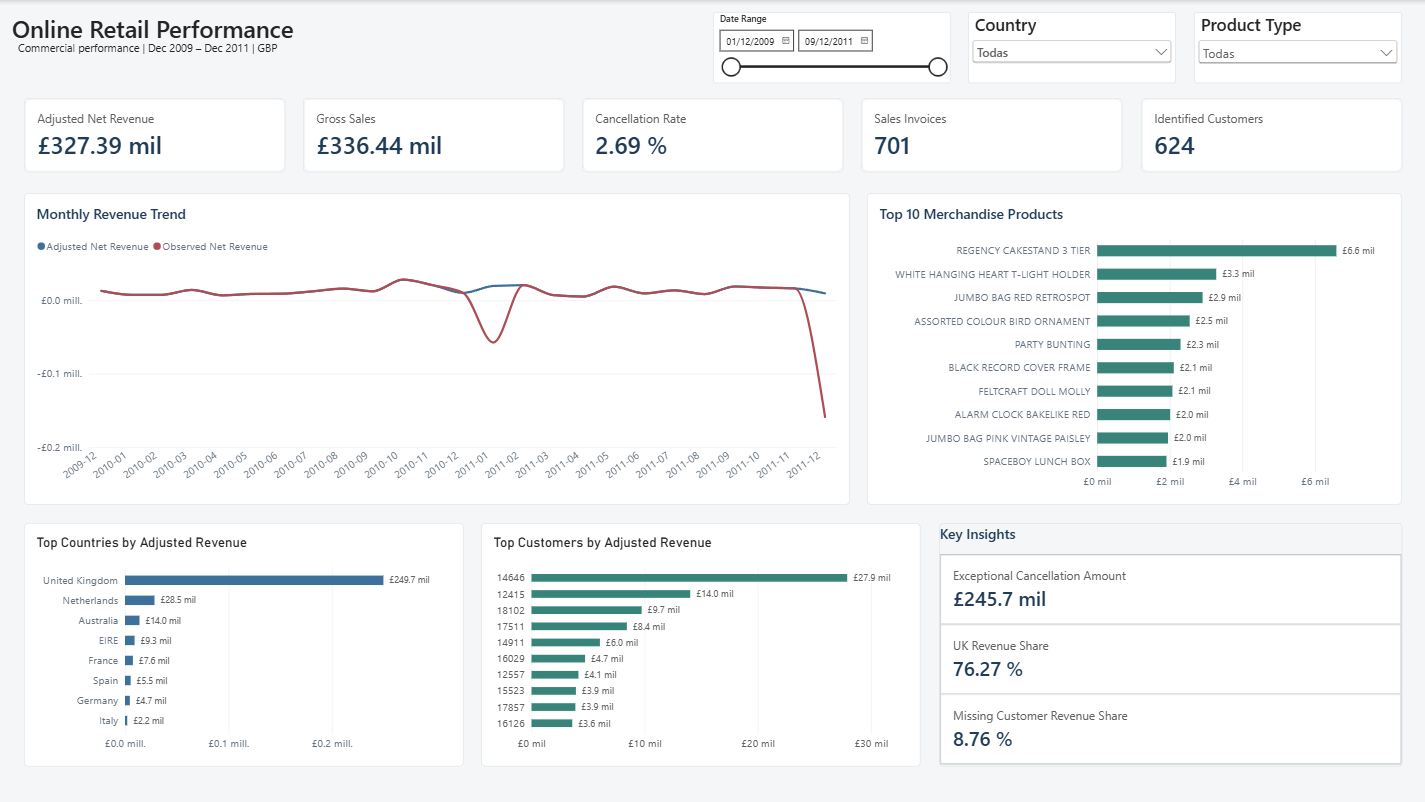

This screenshot's page, from the dashboard's own definition file:
{"tool":"powerbi","page":{"name":"Executive Overview","canvas":[1920,1080],"ordinal":0},"visuals":[{"type":"textbox","box":[16,16,400,48],"z":0},{"type":"textbox","box":[24,54,360,20],"z":1000},{"type":"slicer","fields":{"Values":["dw DimDate.FullDate"]},"box":[960,16,320,96],"z":2000},{"type":"slicer","fields":{"Values":["dw DimCountry.CountryName"]},"box":[1304,16,280,96],"z":3000},{"type":"slicer","fields":{"Values":["dw DimProduct.ProductType"]},"box":[1608,16,280,96],"z":4000},{"type":"cardVisual","fields":{"Data":["_Measures.Adjusted Net Revenue"]},"box":[32,132,352,100],"z":5000},{"type":"cardVisual","fields":{"Data":["_Measures.Gross Sales"]},"box":[408,132,352,100],"z":6000},{"type":"cardVisual","fields":{"Data":["_Measures.Operational Cancellation Rate"]},"box":[784,132,352,100],"z":7000},{"type":"cardVisual","fields":{"Data":["_Measures.Sales Invoices"]},"box":[1160,132,352,100],"z":8000},{"type":"cardVisual","fields":{"Data":["_Measures.Identified Customers"]},"box":[1536,132,352,100],"z":9000},{"type":"lineChart","title":"Monthly Revenue Trend","fields":{"Category":["dw DimDate.YearMonth"],"Y":["_Measures.Adjusted Net Revenue","_Measures.Observed Net Revenue"]},"box":[32,260,1112,420],"z":10000},{"type":"clusteredBarChart","title":"Top 10 Merchandise Products","fields":{"Category":["dw DimProduct.ProductDescription"],"Y":["_Measures.Merchandise Adjusted Revenue"]},"box":[1168,260,720,420],"z":11000},{"type":"clusteredBarChart","title":"Top Countries by Adjusted Revenue","fields":{"Category":["dw DimCountry.CountryName"],"Y":["_Measures.Adjusted Net Revenue"]},"box":[32,704,592,328],"z":12000},{"type":"clusteredBarChart","title":"Top Customers by Adjusted Revenue","fields":{"Category":["dw DimCustomer.CustomerID"],"Y":["_Measures.Identified Customer Revenue"]},"box":[648,704,592,328],"z":13000},{"type":"cardVisual","title":"Key Insights","fields":{"Data":["_Measures.Exceptional Cancellation Amount","_Measures.UK Revenue Share","_Measures.Missing Customer Revenue Share"]},"box":[1264,704,624,328],"z":14000}]}

Visuals, with their boxes in screenshot pixels (x1, y1, x2, y2), scaled from the page's 1920x1080 canvas onto the 1425x802 screenshot:
textbox: 12, 12, 309, 48
textbox: 18, 40, 285, 55
slicer - dw DimDate.FullDate: 712, 12, 950, 83
slicer - dw DimCountry.CountryName: 968, 12, 1176, 83
slicer - dw DimProduct.ProductType: 1193, 12, 1401, 83
cardVisual - _Measures.Adjusted Net Revenue: 24, 98, 285, 172
cardVisual - _Measures.Gross Sales: 303, 98, 564, 172
cardVisual - _Measures.Operational Cancellation Rate: 582, 98, 843, 172
cardVisual - _Measures.Sales Invoices: 861, 98, 1122, 172
cardVisual - _Measures.Identified Customers: 1140, 98, 1401, 172
"Monthly Revenue Trend" lineChart: 24, 193, 849, 505
"Top 10 Merchandise Products" clusteredBarChart: 867, 193, 1401, 505
"Top Countries by Adjusted Revenue" clusteredBarChart: 24, 523, 463, 766
"Top Customers by Adjusted Revenue" clusteredBarChart: 481, 523, 920, 766
"Key Insights" cardVisual: 938, 523, 1401, 766
